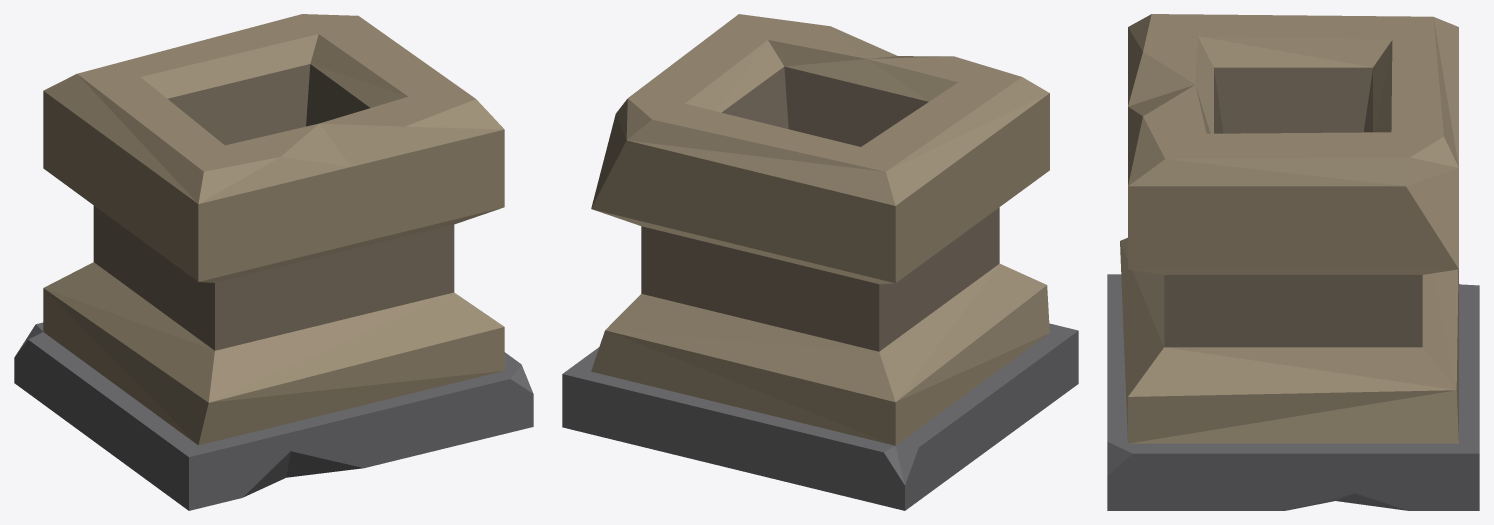
File: SM_Bld_House_Chimney_05.gltf
The picture shows the model from 3 angles, left to right: view 1: azimuth 30°, elevation 25°; view 2: azimuth 150°, elevation 25°; view 3: azimuth 270°, elevation 25°; orthographic projection. The views are drawn at different scales.
Visible parts, largest first — view 1: SM_Bld_House_Chimney_05; view 2: SM_Bld_House_Chimney_05; view 3: SM_Bld_House_Chimney_05.
Boxes of the visible parts, left/top/right/bottom form: SM_Bld_House_Chimney_05: left=14, top=14, right=533, bottom=510; SM_Bld_House_Chimney_05: left=562, top=14, right=1078, bottom=510; SM_Bld_House_Chimney_05: left=1107, top=14, right=1479, bottom=510.
Bounding box in the file's own units: 0.9577 × 0.9684 × 0.8405.
Materials: 1 (1 with a texture image).
